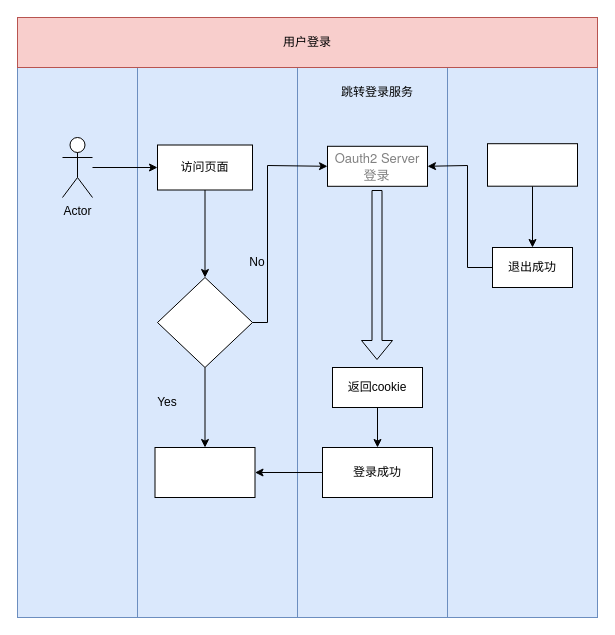
Image size: 615x635. Some labels were removed from this diagram. The centre of each missing label's shape, as x and y in pixels:
是否携uid: [204,322]
进入页面: [204,472]
退出登录: [532,164]
